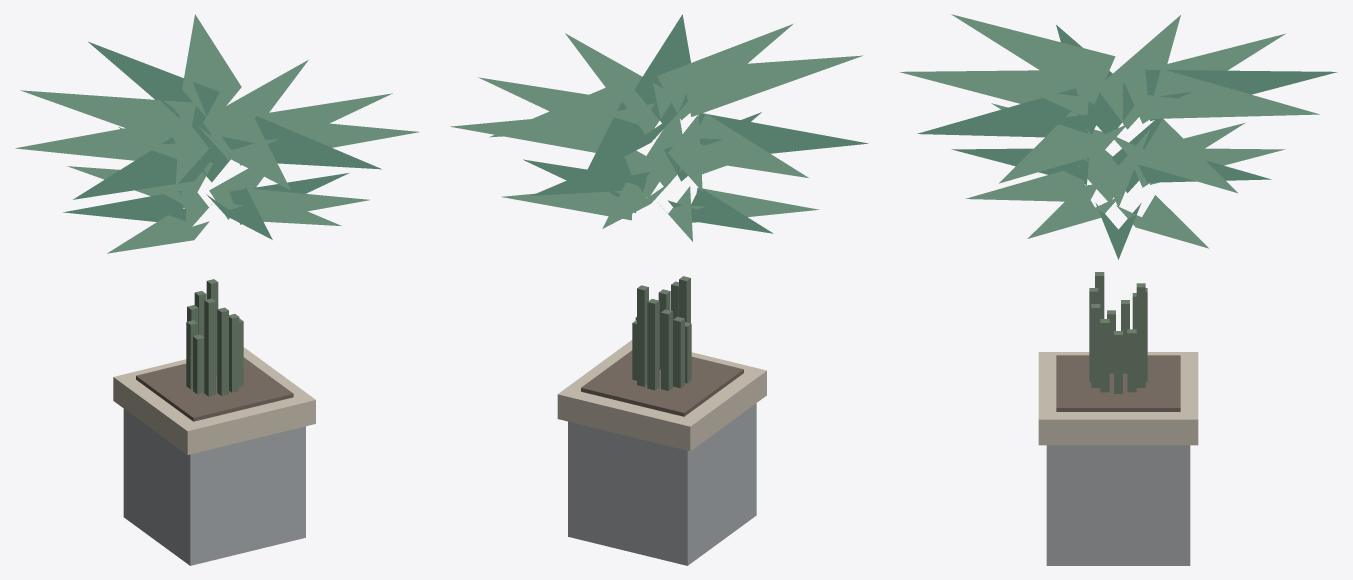
3 views of the same model, side by side, from view 1: azimuth 30°, elevation 25°; view 2: azimuth 150°, elevation 25°; view 3: azimuth 270°, elevation 25° (orthographic). The views are drawn at different scales.
Parts seen in each view (by area): view 1: RG-GAME-02-INDOOR-GREENERY-V16__STANDALONE_PL02__ASSET_1F_le (×2), RG-GAME-02-INDOOR-GREENERY-V16__STANDALONE_PL02__ASSET_1F_st (×2), RG-GAME-02-INDOOR-GREENERY-V16__STANDALONE_PL02__ASSET_1F_ri, RG-GAME-02-INDOOR-GREENERY-V16__STANDALONE_PL02__ASSET_1F_so; view 2: RG-GAME-02-INDOOR-GREENERY-V16__STANDALONE_PL02__ASSET_1F_le (×2), RG-GAME-02-INDOOR-GREENERY-V16__STANDALONE_PL02__ASSET_1F_st (×2), RG-GAME-02-INDOOR-GREENERY-V16__STANDALONE_PL02__ASSET_1F_ri, RG-GAME-02-INDOOR-GREENERY-V16__STANDALONE_PL02__ASSET_1F_so; view 3: RG-GAME-02-INDOOR-GREENERY-V16__STANDALONE_PL02__ASSET_1F_le (×2), RG-GAME-02-INDOOR-GREENERY-V16__STANDALONE_PL02__ASSET_1F_st (×2), RG-GAME-02-INDOOR-GREENERY-V16__STANDALONE_PL02__ASSET_1F_ri, RG-GAME-02-INDOOR-GREENERY-V16__STANDALONE_PL02__ASSET_1F_so.
Part boxes in pixels (bbox=[...]): RG-GAME-02-INDOOR-GREENERY-V16__STANDALONE_PL02__ASSET_1F_le (×2): bbox=[15, 14, 419, 253]; RG-GAME-02-INDOOR-GREENERY-V16__STANDALONE_PL02__ASSET_1F_st (×2): bbox=[123, 279, 305, 565]; RG-GAME-02-INDOOR-GREENERY-V16__STANDALONE_PL02__ASSET_1F_ri: bbox=[113, 347, 315, 454]; RG-GAME-02-INDOOR-GREENERY-V16__STANDALONE_PL02__ASSET_1F_so: bbox=[136, 357, 293, 421]; RG-GAME-02-INDOOR-GREENERY-V16__STANDALONE_PL02__ASSET_1F_le (×2): bbox=[450, 14, 868, 241]; RG-GAME-02-INDOOR-GREENERY-V16__STANDALONE_PL02__ASSET_1F_st (×2): bbox=[568, 276, 756, 565]; RG-GAME-02-INDOOR-GREENERY-V16__STANDALONE_PL02__ASSET_1F_ri: bbox=[557, 340, 766, 451]; RG-GAME-02-INDOOR-GREENERY-V16__STANDALONE_PL02__ASSET_1F_so: bbox=[581, 350, 743, 416]; RG-GAME-02-INDOOR-GREENERY-V16__STANDALONE_PL02__ASSET_1F_le (×2): bbox=[899, 14, 1337, 259]; RG-GAME-02-INDOOR-GREENERY-V16__STANDALONE_PL02__ASSET_1F_st (×2): bbox=[1046, 272, 1190, 565]; RG-GAME-02-INDOOR-GREENERY-V16__STANDALONE_PL02__ASSET_1F_ri: bbox=[1038, 352, 1198, 445]; RG-GAME-02-INDOOR-GREENERY-V16__STANDALONE_PL02__ASSET_1F_so: bbox=[1056, 355, 1180, 411].
Bounding box in the file's own units: 1.23 × 1.43 × 1.24.
